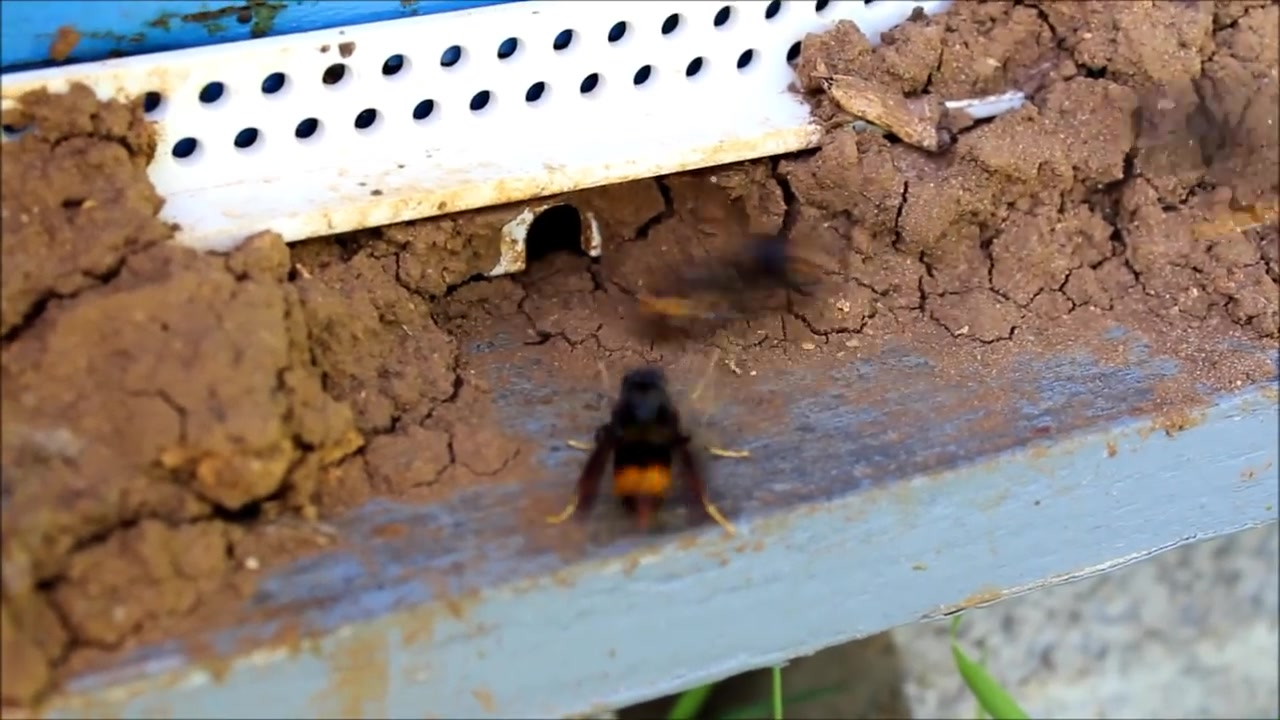hornet: (580, 358, 720, 538)
